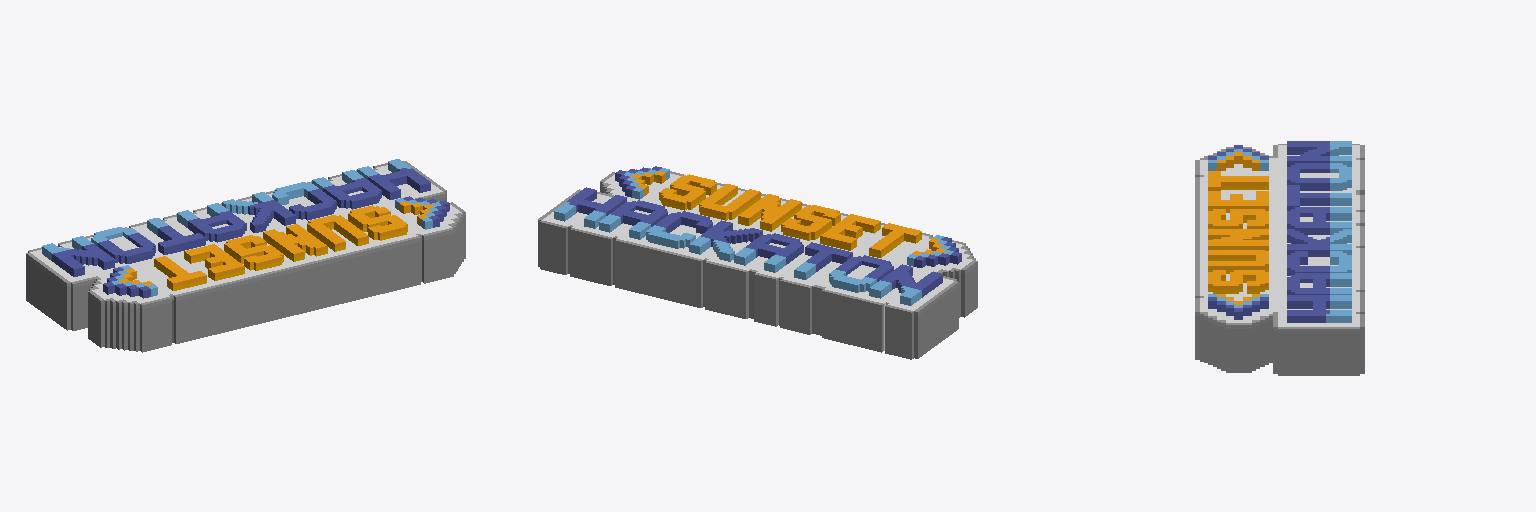
3 renders of one model, left to right at view 1: azimuth 30°, elevation 25°; view 2: azimuth 150°, elevation 25°; view 3: azimuth 270°, elevation 25°, orthographic.
Bounding box in the file's own units: 101 × 14 × 39.
1 materials, 1 textured.